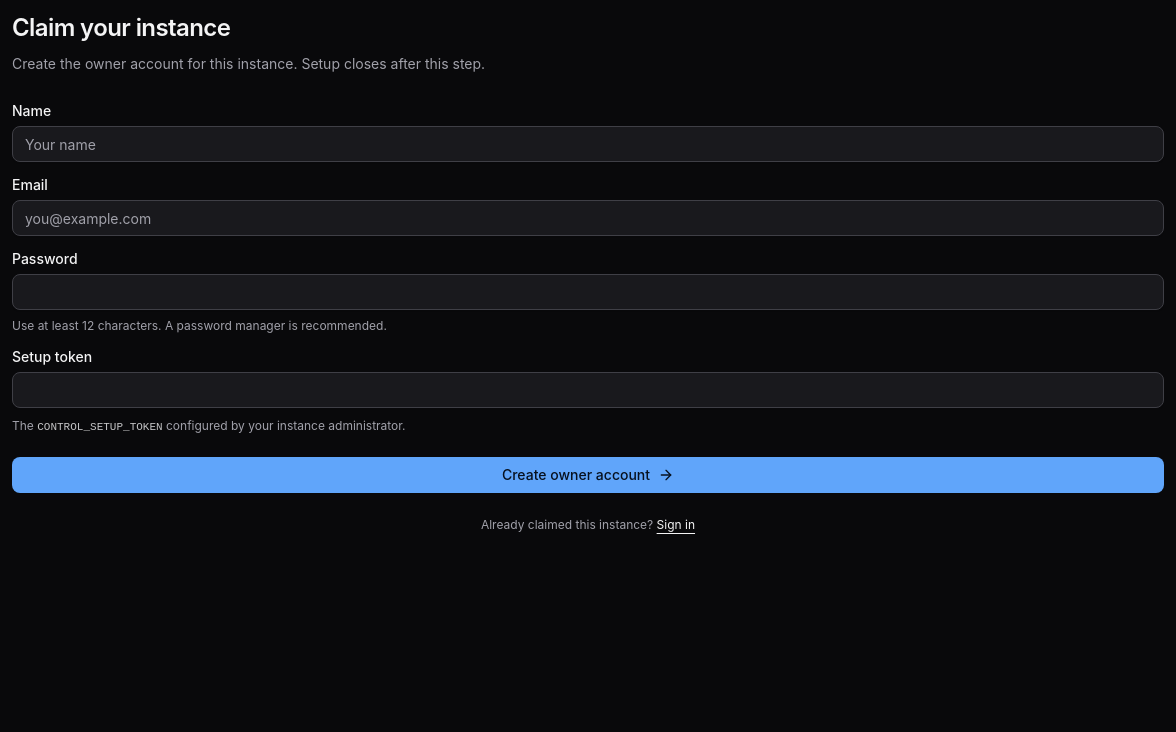
Test: setup form › explains an exact-origin rejection without exposing request details
In the field labelled "Name": (588, 144) top-left (12, 126), bottom-right (1164, 162), type "Local Owner"
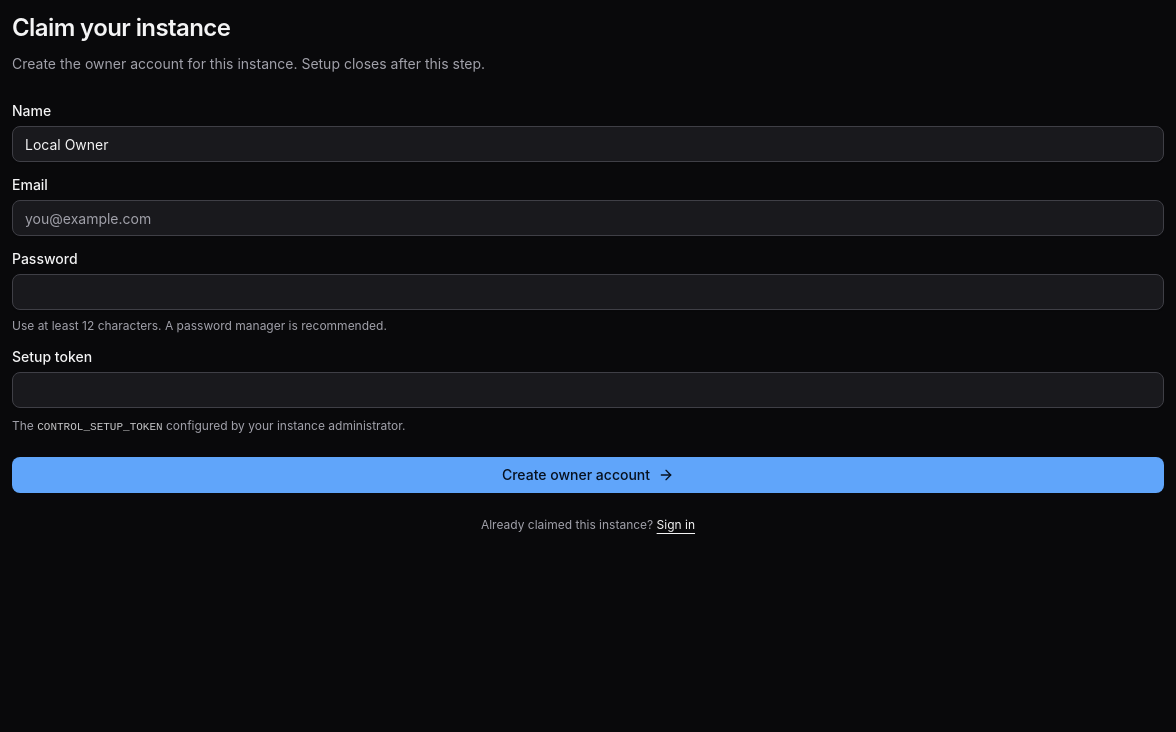
In the field labelled "Email": (588, 218) top-left (12, 200), bottom-right (1164, 236), type "owner@example.com"
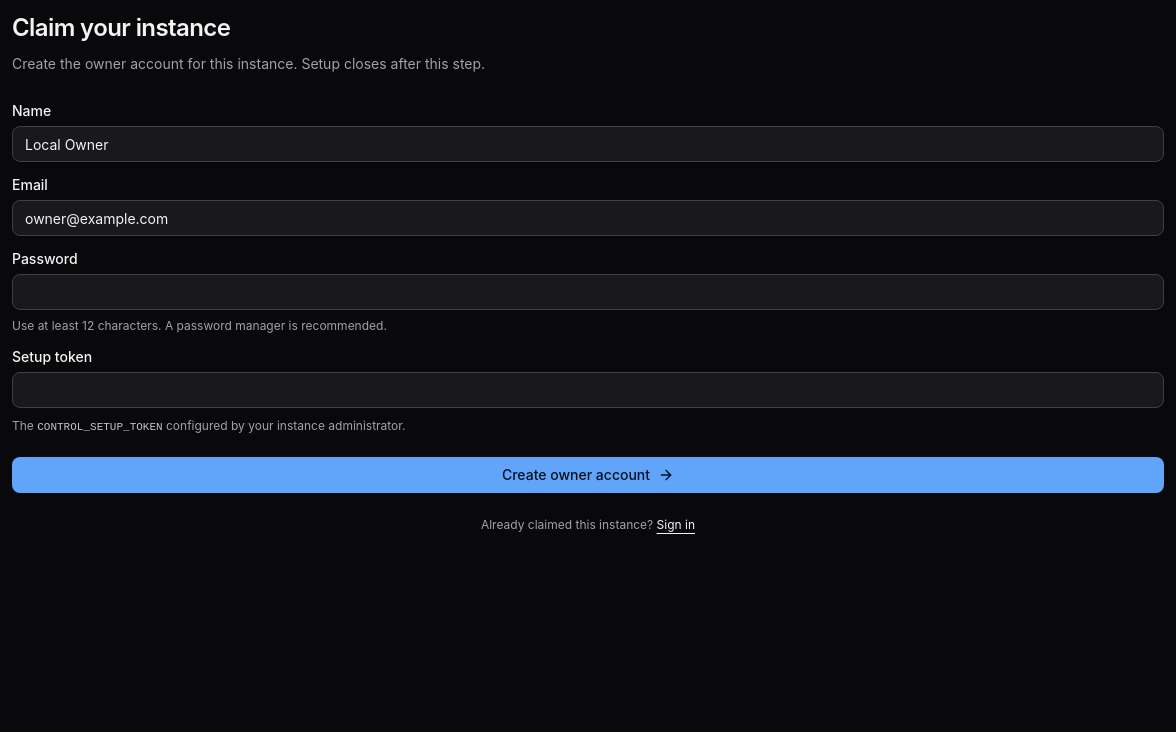
In the password field labelled "Password": (588, 292) top-left (12, 274), bottom-right (1164, 310), type "a-secure-local-password"
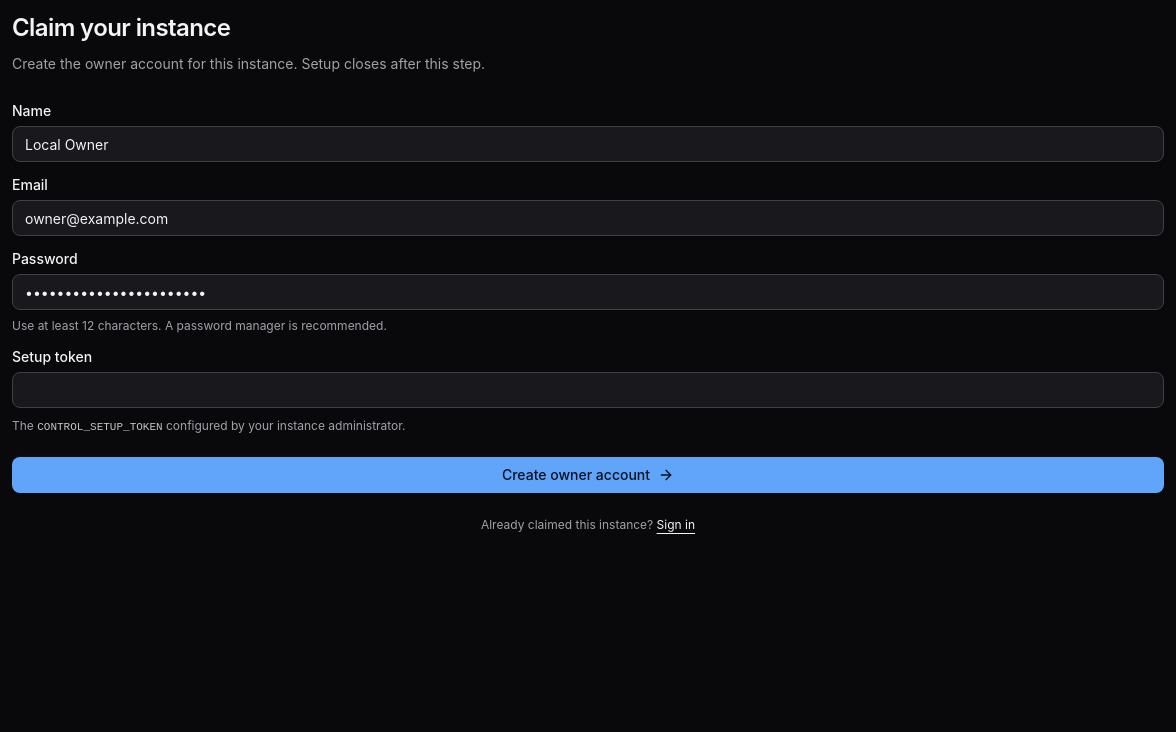
In the password field labelled "Setup token": (588, 390) top-left (12, 372), bottom-right (1164, 408), type "test-setup-token"
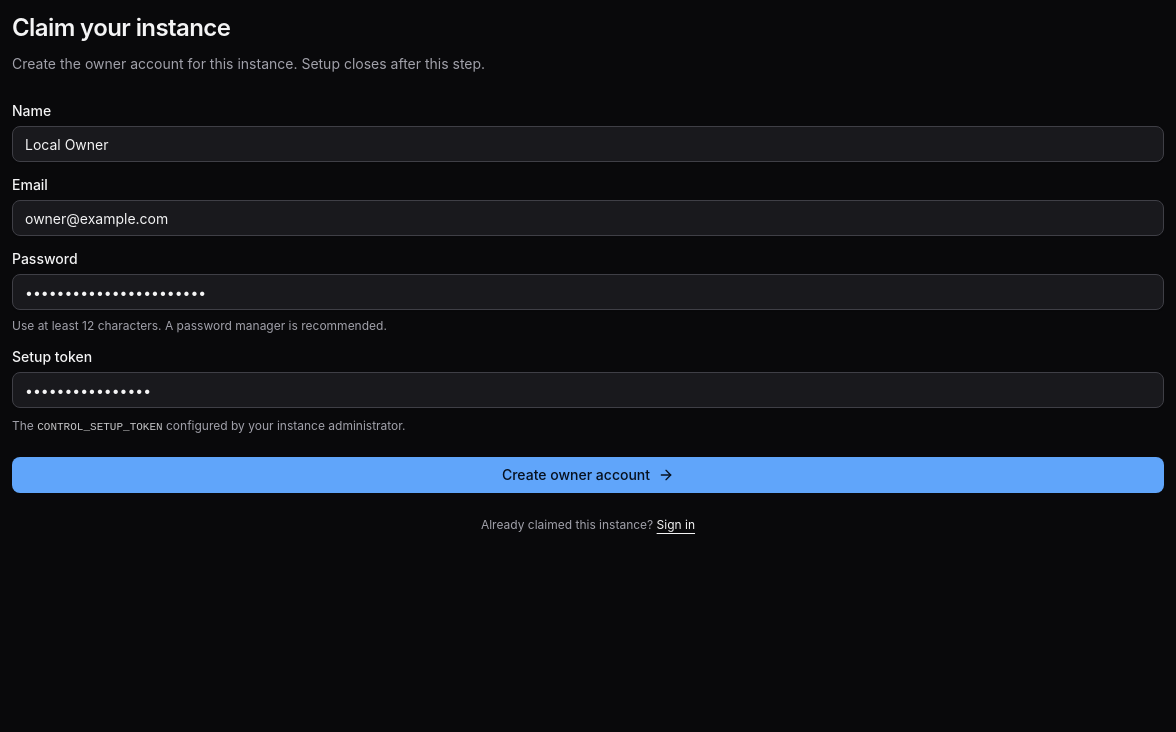
Click the button "Create owner account": click(588, 475) top-left (12, 457), bottom-right (1164, 493)
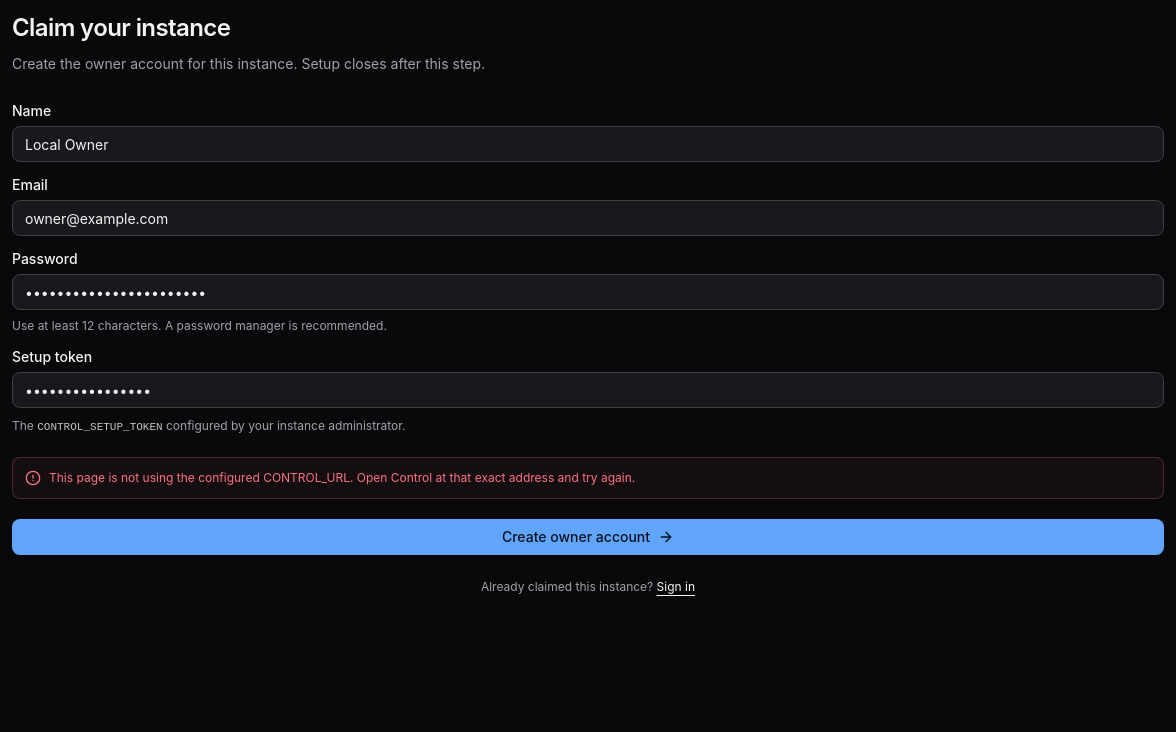
Check: the message shows "This page is not using the configured CONTROL_URL", box top-left (49, 470), bottom-right (635, 485)
